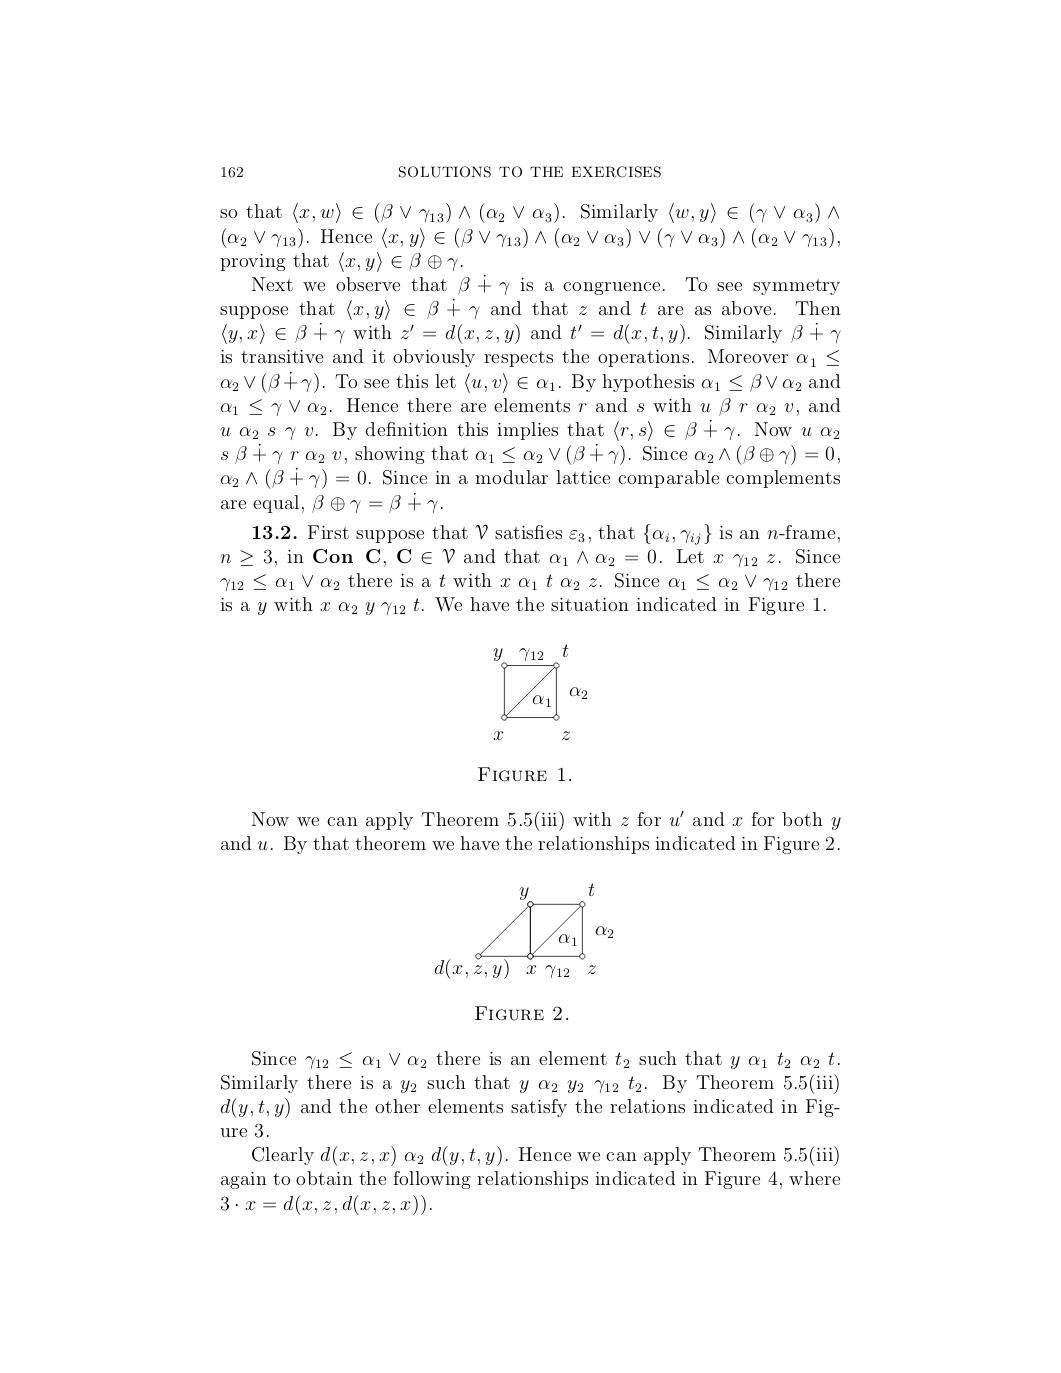figure: (434, 882, 613, 978), (493, 644, 587, 740)
formula: (220, 1194, 431, 1215)
